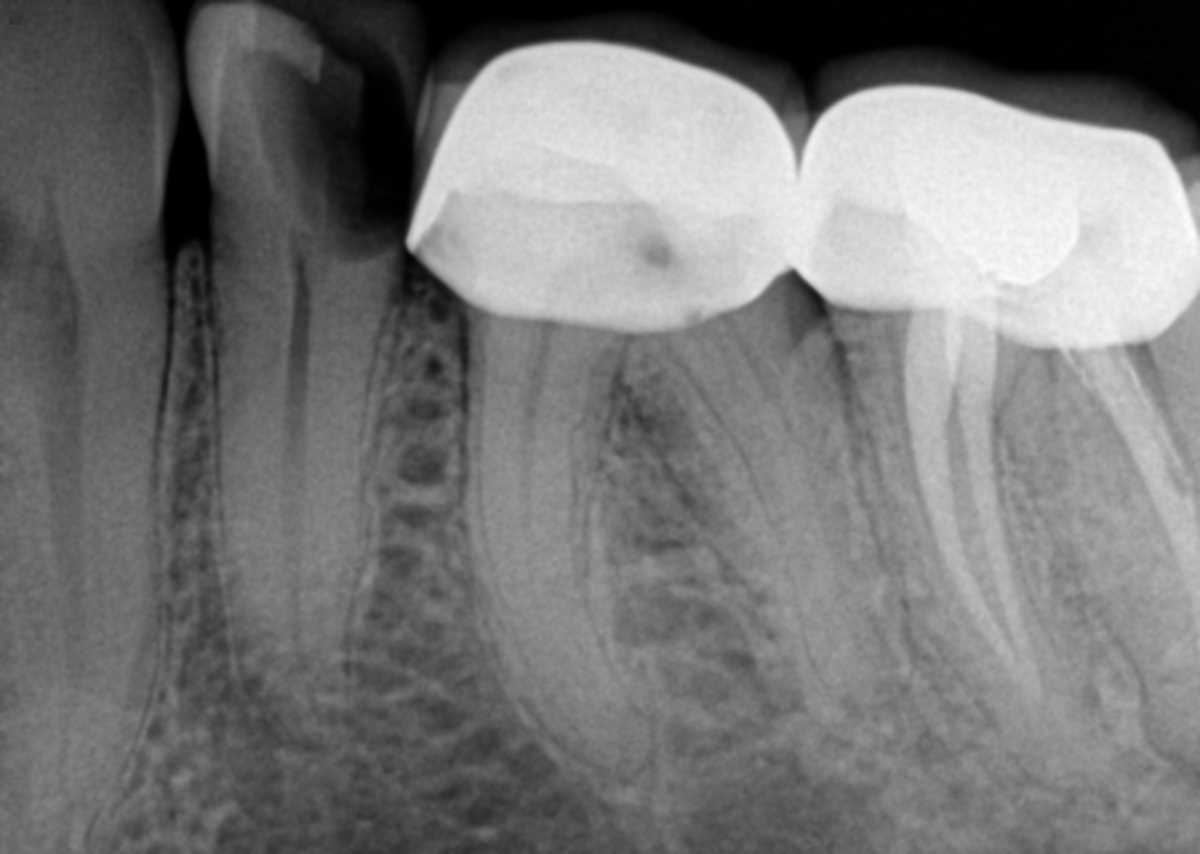Distal Root: (622, 288, 901, 705), (1005, 343, 1200, 761)
Main Canal: (22, 252, 88, 830), (284, 236, 312, 706)
Main Root: (0, 246, 169, 851), (215, 201, 397, 743)
Mesial Canal: (517, 327, 555, 656)
Mesial Root: (830, 326, 1104, 794), (463, 312, 655, 782)
Root Canal Filling: (905, 311, 1042, 701), (1086, 362, 1198, 588)
decay: (248, 0, 438, 262)
